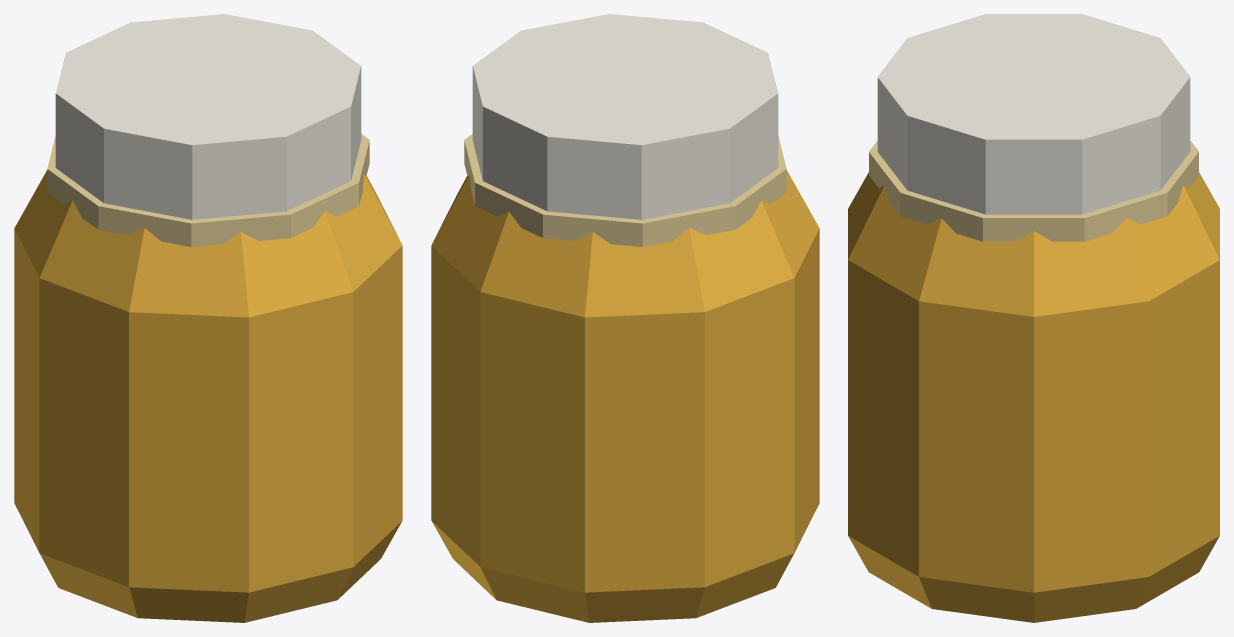
File: prop-honey-jar.fbx
The picture shows the model from 3 angles, left to right: view 1: azimuth 30°, elevation 25°; view 2: azimuth 150°, elevation 25°; view 3: azimuth 270°, elevation 25°; orthographic projection.
Parts seen in each view (by area): view 1: prop-honey-jar; view 2: prop-honey-jar; view 3: prop-honey-jar.
Boxes of the visible parts, x1,y1,x2,y2 form: prop-honey-jar: (14,14,402,622); prop-honey-jar: (431,14,819,622); prop-honey-jar: (848,14,1219,622).
Bounding box in the file's own units: 9 × 12 × 8.56.
